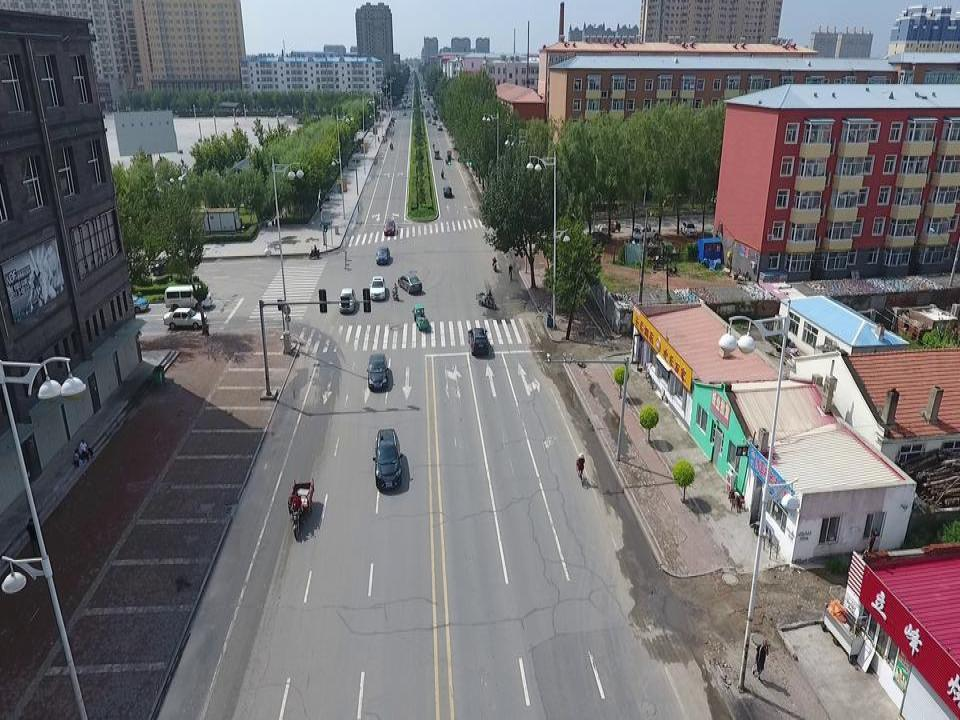car: (374, 428, 401, 492), (163, 308, 206, 329), (366, 352, 389, 391), (398, 272, 423, 295), (468, 329, 489, 352), (337, 288, 354, 315), (632, 226, 660, 242), (371, 275, 385, 301), (582, 232, 609, 245), (681, 220, 698, 239), (375, 246, 389, 266), (383, 219, 396, 236), (442, 185, 452, 199), (438, 125, 441, 131)
truck: (446, 149, 451, 159)
van: (162, 285, 212, 311), (434, 150, 439, 158)
